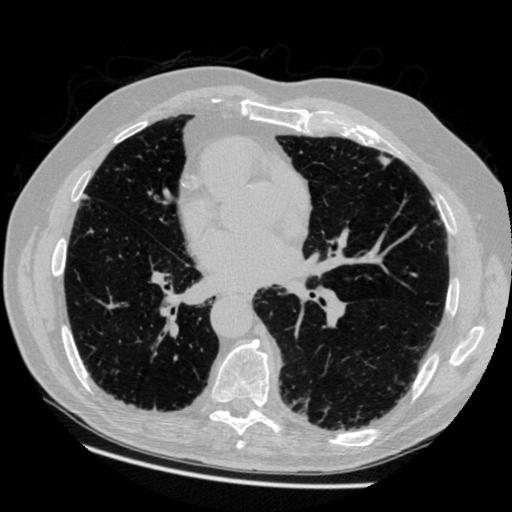nodule: (379, 152, 397, 170)
